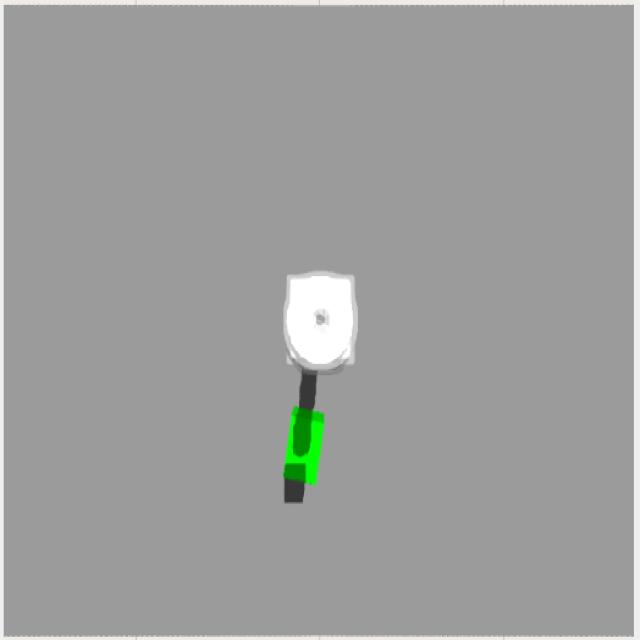box: (283, 408, 322, 484)
